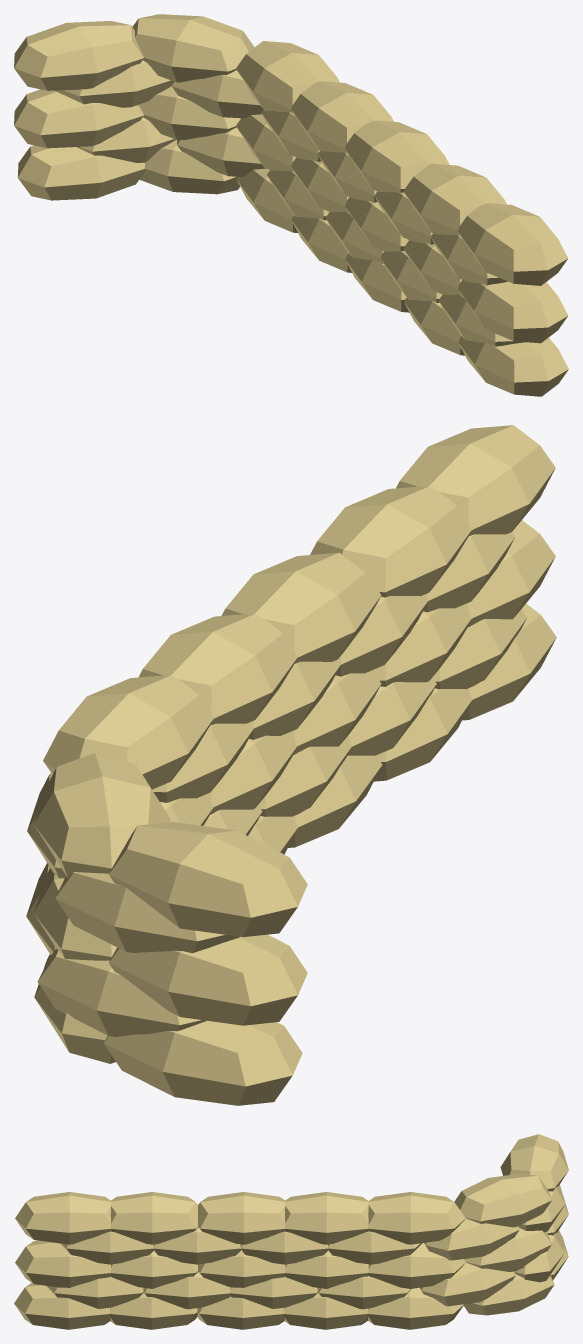
Rendered from Sandbagwall5.fbx.
3 renders of one model, top to bottom at view 1: azimuth 30°, elevation 25°; view 2: azimuth 150°, elevation 25°; view 3: azimuth 270°, elevation 25°, orthographic. The views are drawn at different scales.
Visible parts, largest first — view 1: Sandbag; view 2: Sandbag; view 3: Sandbag.
Boxes of the visible parts, x1=… form: Sandbag: x1=14, y1=14, x2=568, y2=396; Sandbag: x1=26, y1=425, x2=556, y2=1105; Sandbag: x1=14, y1=1134, x2=568, y2=1329.
Bounding box in the file's own units: 246 × 171 × 659.
